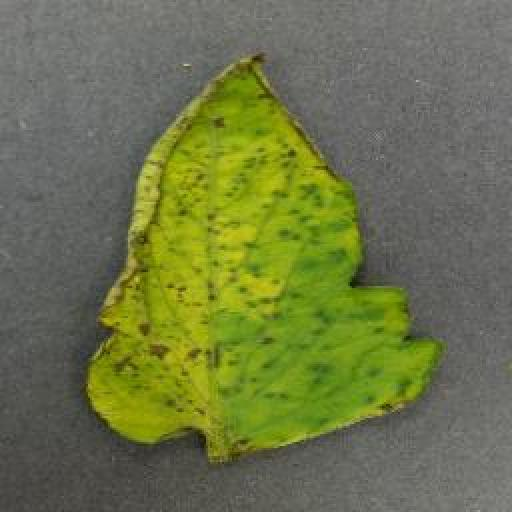Bacterial Spot: (80, 46, 445, 458)
